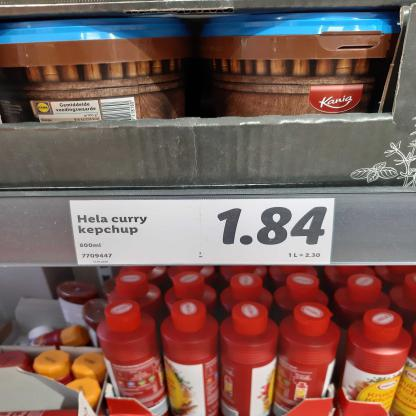prtg: (71, 199, 337, 266)
